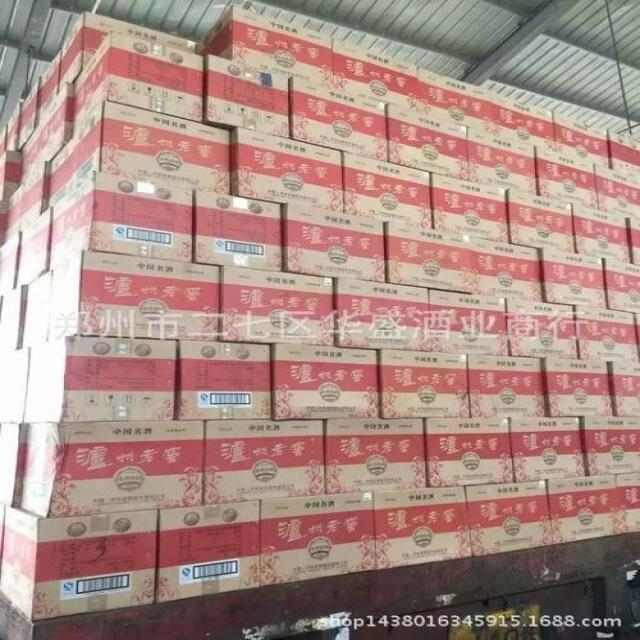box: (50, 101, 232, 207), (0, 507, 159, 622), (20, 420, 205, 518), (49, 250, 220, 342), (50, 171, 195, 271), (73, 30, 205, 137), (23, 336, 179, 424), (260, 491, 378, 587), (58, 12, 198, 92), (195, 6, 333, 86), (157, 501, 261, 604), (204, 419, 326, 505), (230, 126, 344, 213), (218, 266, 337, 344), (291, 76, 389, 161), (282, 202, 387, 281), (271, 343, 380, 419), (374, 486, 472, 570), (326, 418, 429, 494), (175, 340, 271, 419), (204, 54, 292, 139), (334, 278, 433, 352), (195, 189, 283, 272), (463, 480, 554, 557), (343, 151, 433, 228), (333, 37, 420, 114), (379, 349, 471, 419), (426, 417, 516, 488), (387, 220, 472, 294), (388, 105, 470, 179), (431, 173, 511, 243), (430, 288, 511, 356), (547, 475, 623, 545), (20, 82, 73, 181), (509, 416, 586, 483), (468, 354, 547, 417), (420, 67, 494, 134), (468, 128, 539, 196), (471, 236, 543, 302), (508, 298, 580, 359), (508, 190, 576, 252), (539, 249, 608, 309), (544, 359, 614, 416), (536, 147, 600, 209), (4, 162, 51, 246), (493, 92, 554, 152), (572, 203, 632, 263), (575, 305, 640, 360), (580, 416, 639, 476), (552, 110, 611, 169), (15, 207, 52, 289), (596, 165, 640, 219), (0, 424, 28, 508), (0, 346, 29, 423), (23, 270, 51, 347), (603, 257, 640, 314), (0, 285, 28, 356), (608, 361, 640, 416), (19, 77, 40, 150), (609, 130, 640, 178), (616, 473, 640, 533), (0, 230, 19, 297), (0, 151, 20, 202), (6, 103, 20, 151), (627, 216, 640, 265), (0, 503, 6, 588), (0, 202, 8, 249), (635, 313, 640, 360)
